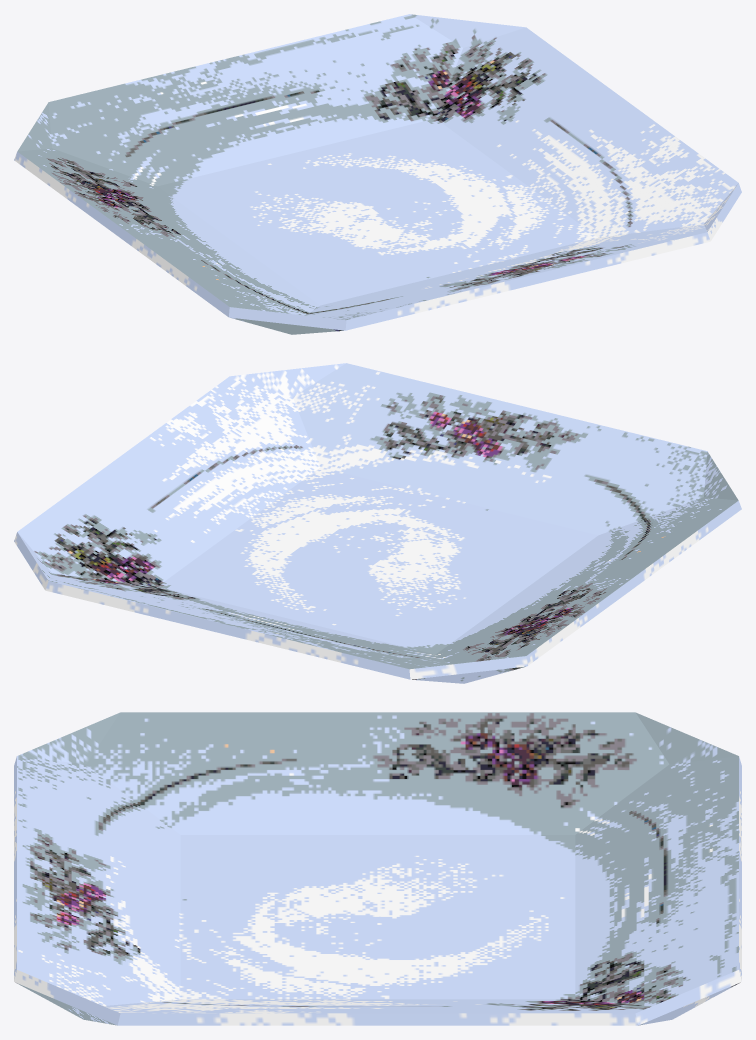
Rendered from PSX_Plate.glb.
3 views of the same model, one above another, from view 1: azimuth 30°, elevation 25°; view 2: azimuth 150°, elevation 25°; view 3: azimuth 270°, elevation 25° (orthographic). The views are drawn at different scales.
Parts seen in each view (by area): view 1: SM_PSX_Plate; view 2: SM_PSX_Plate; view 3: SM_PSX_Plate.
Part boxes in pixels (<box>): SM_PSX_Plate: <box>14,14,741,334</box>; SM_PSX_Plate: <box>14,363,741,683</box>; SM_PSX_Plate: <box>14,712,741,1025</box>.
Size of the model in its own units: 0.2809 by 0.0283 by 0.2848.
Materials: 1 (1 with a texture image).
